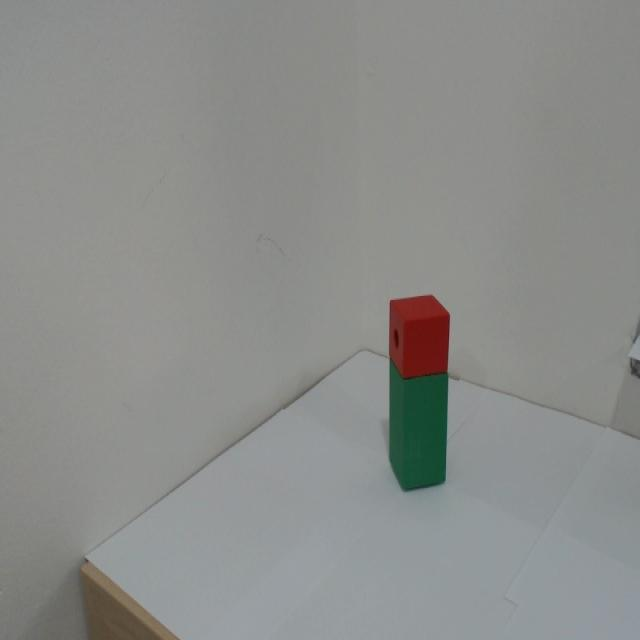cube: (378, 286, 466, 383)
